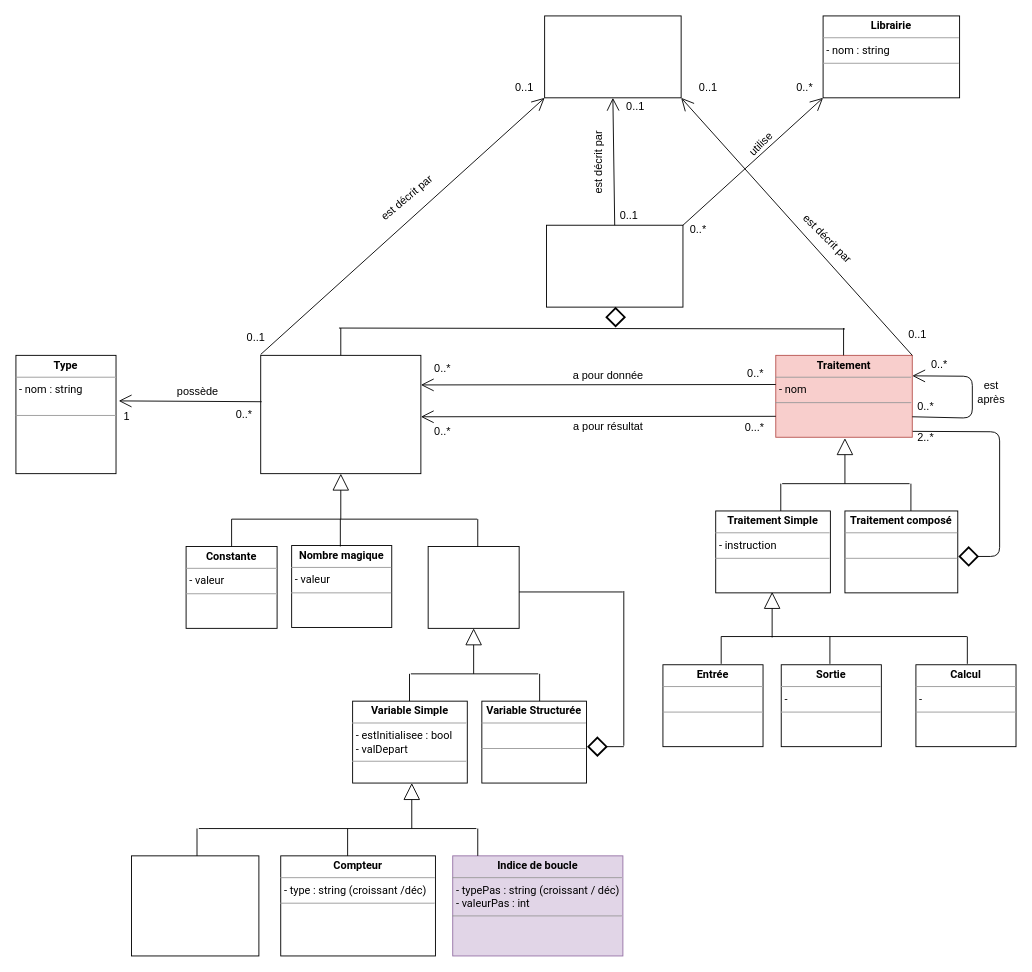
This 1032x972 diagram has some shape labels left out. Here are the shapes that lost their labels. From the top down, the centre of each, then its label:
the point at 612,56: Commentaire - valeur : string
the point at 614,265: Code - cheminFichier : string
the point at 340,414: Information - nom : string - conventionNommage : string
the point at 473,587: Variable
the point at 195,905: Accumulateur typeCumul : char (+ / -)
